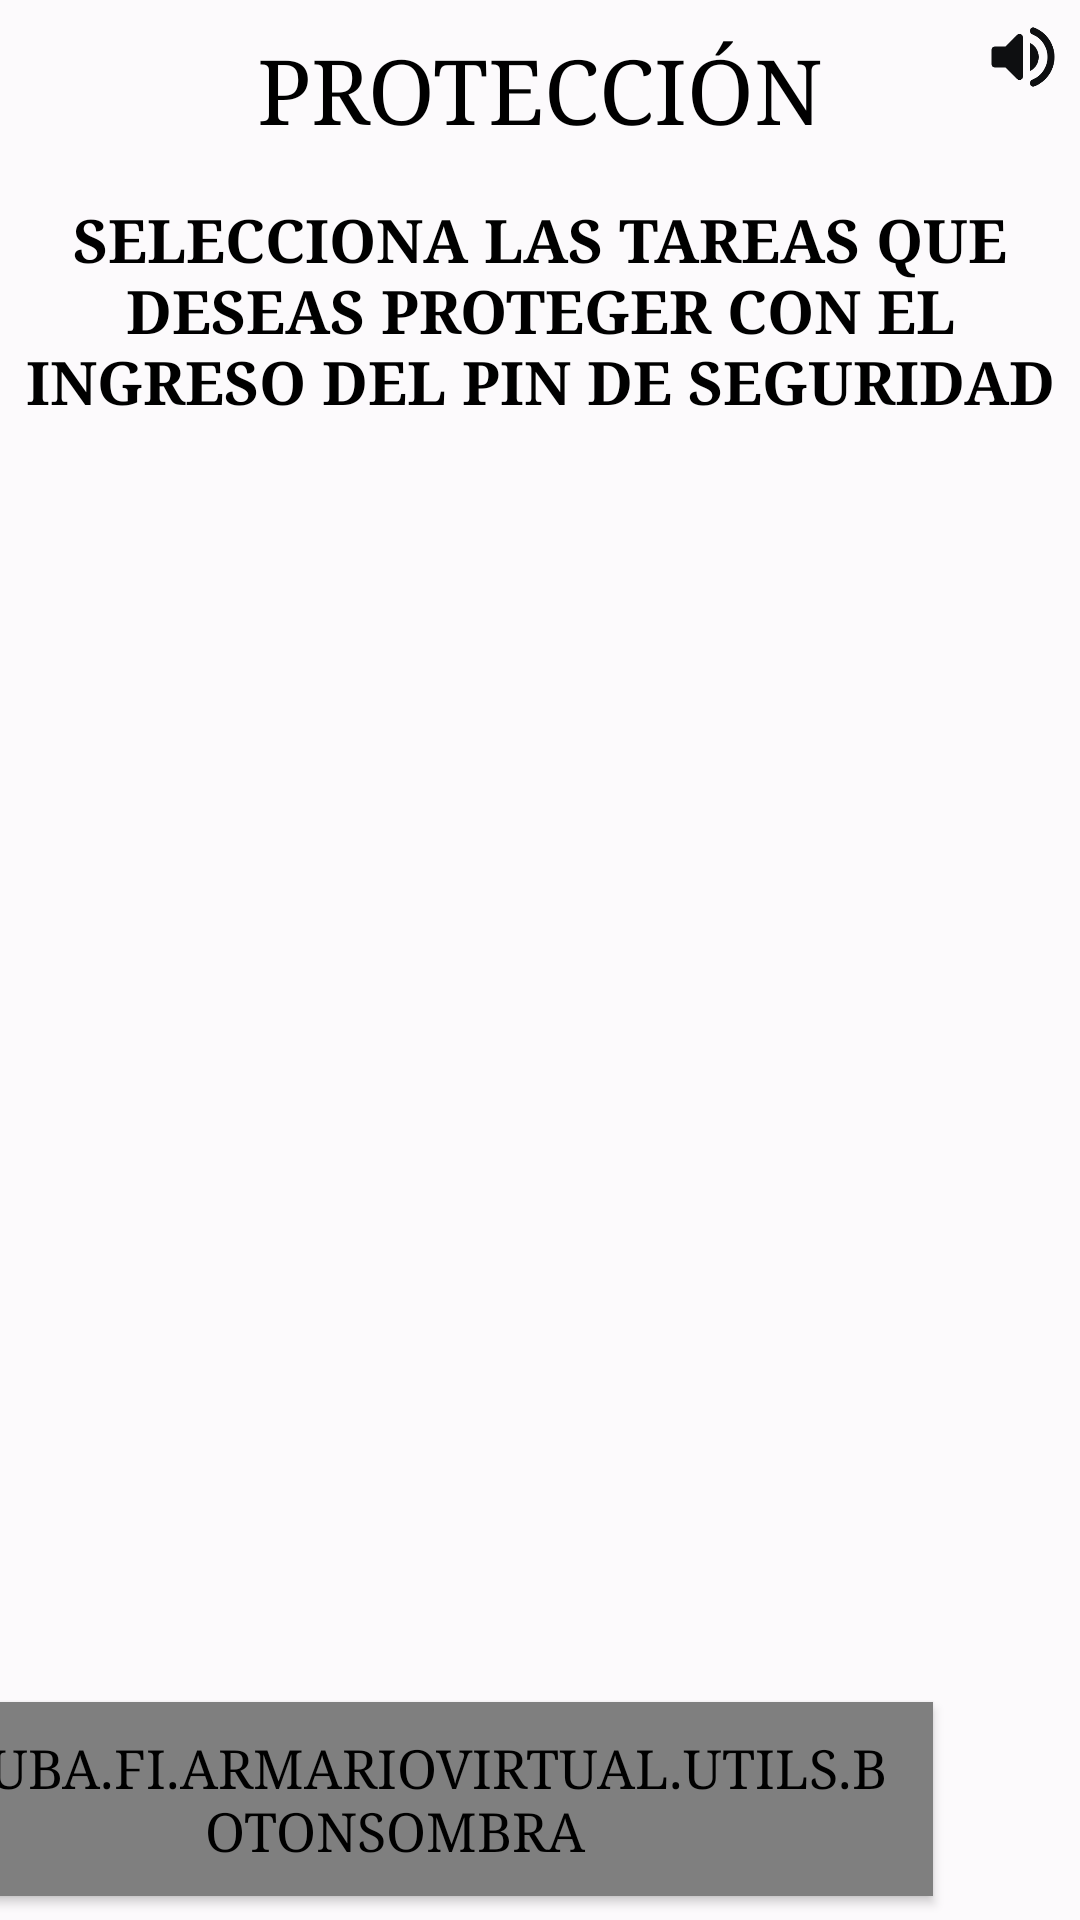

Icon click points for this 1080px x 1920px phone screenshot, format (x,y):
Sonido: (1023,57)
